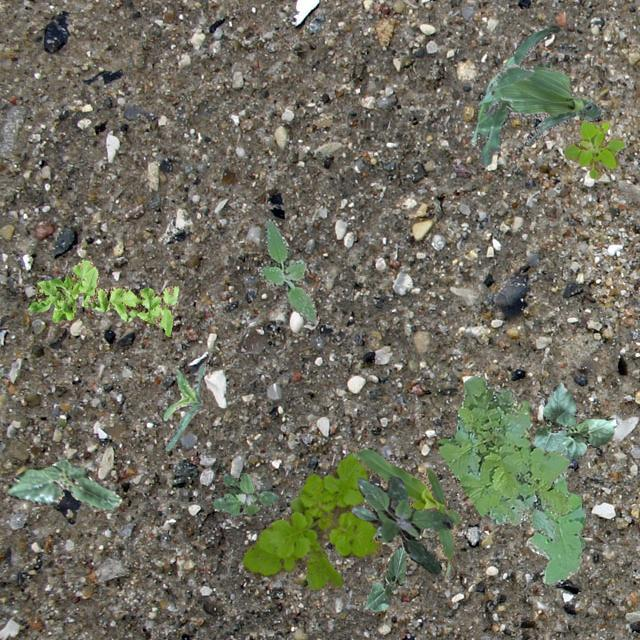crop: (352, 448, 459, 574), (469, 24, 558, 164), (482, 64, 600, 144), (6, 458, 120, 509), (162, 364, 202, 449), (534, 382, 576, 451), (364, 544, 404, 610), (556, 417, 616, 458)
weed: (436, 374, 568, 542), (242, 450, 381, 590), (26, 258, 178, 336), (351, 477, 452, 572), (524, 468, 584, 582), (258, 218, 316, 322), (562, 119, 624, 178), (212, 472, 278, 514)
